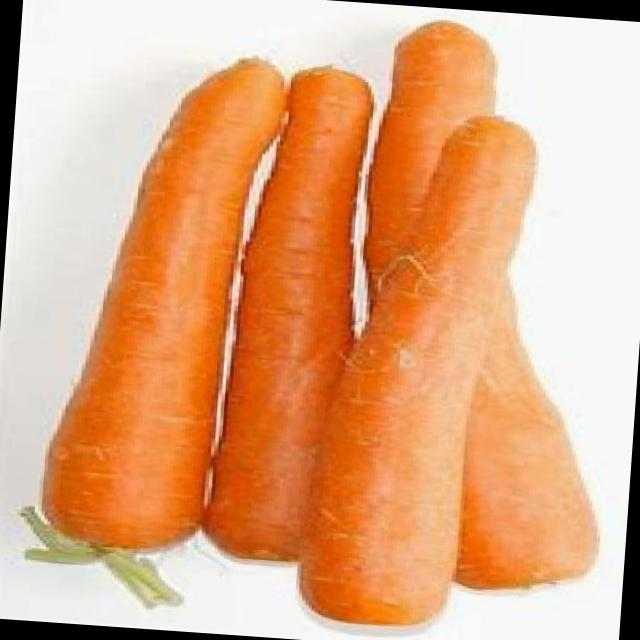carrot: (29, 50, 283, 557), (294, 123, 534, 621), (198, 74, 373, 567)
